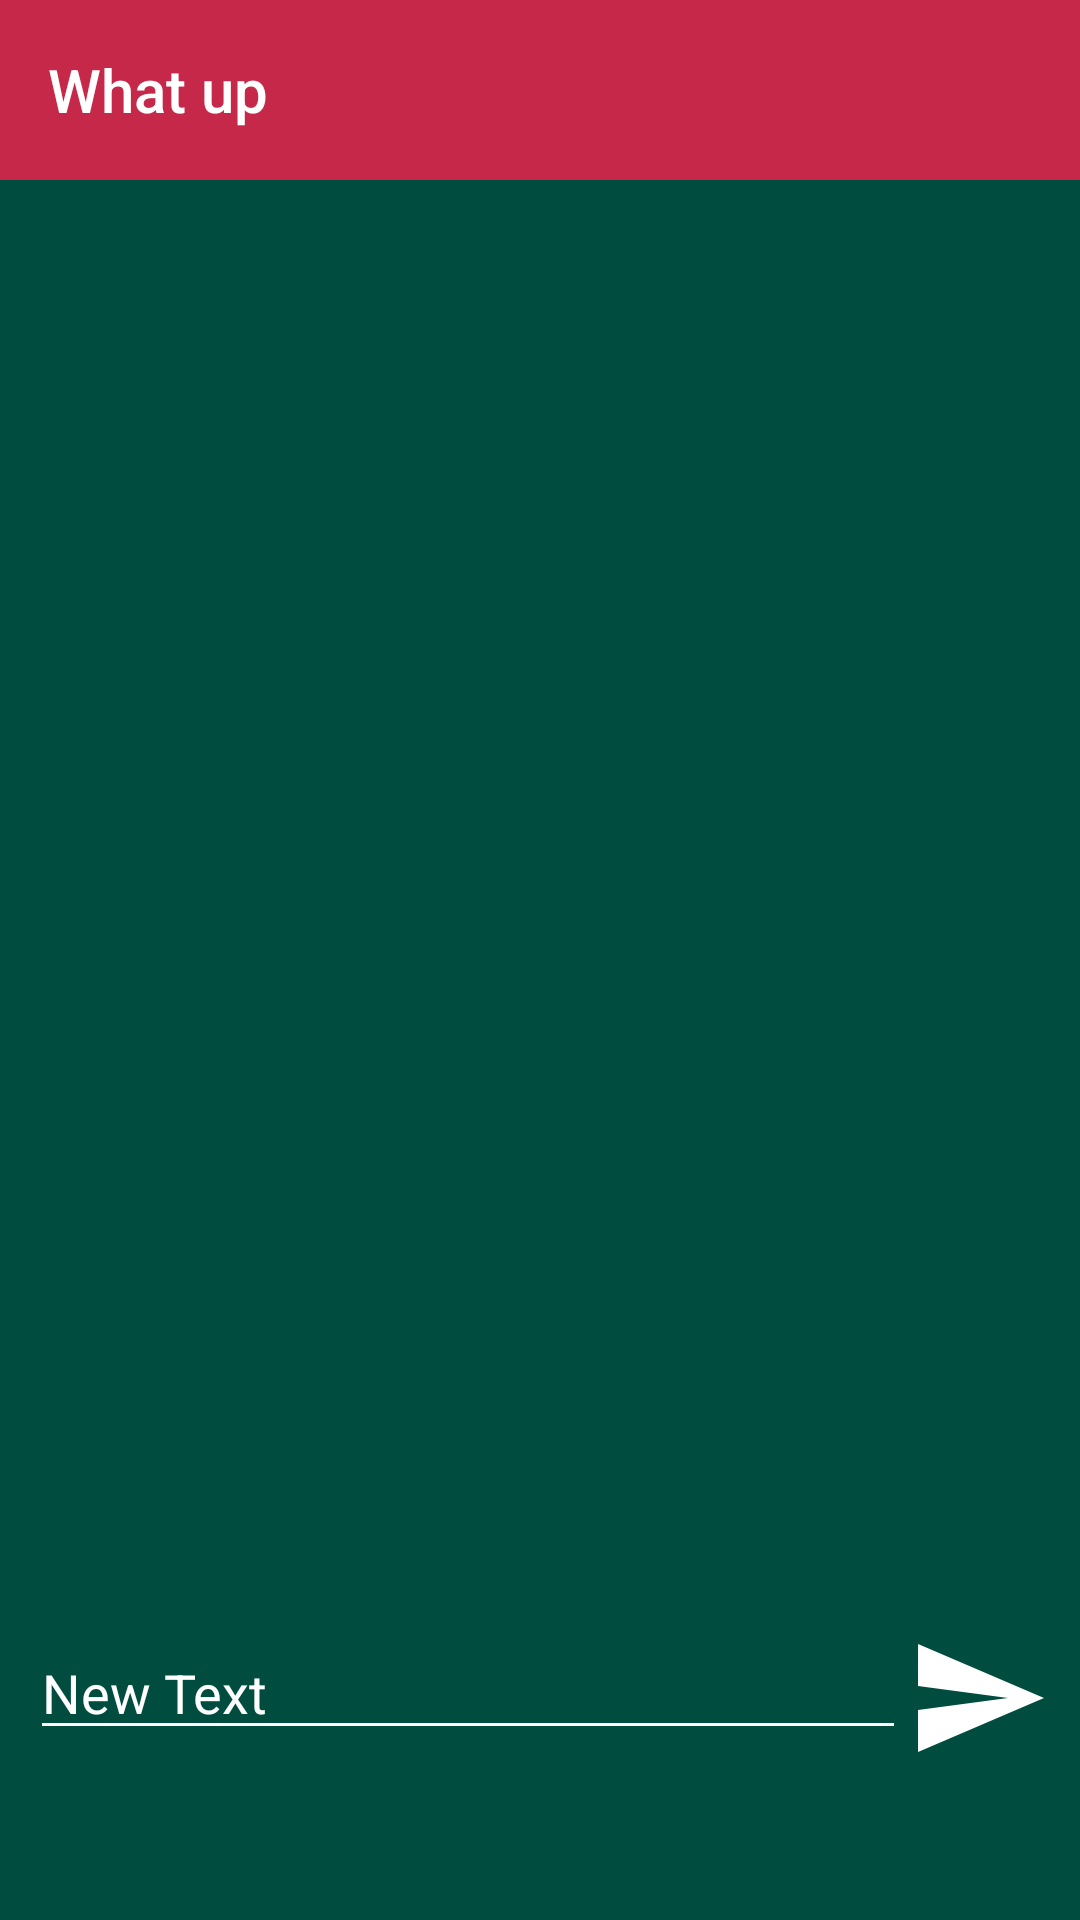

Icons on this 1080 × 1920 Android screen, each with the point to tap as (x=x, y=y):
send: (x=981, y=1698)
